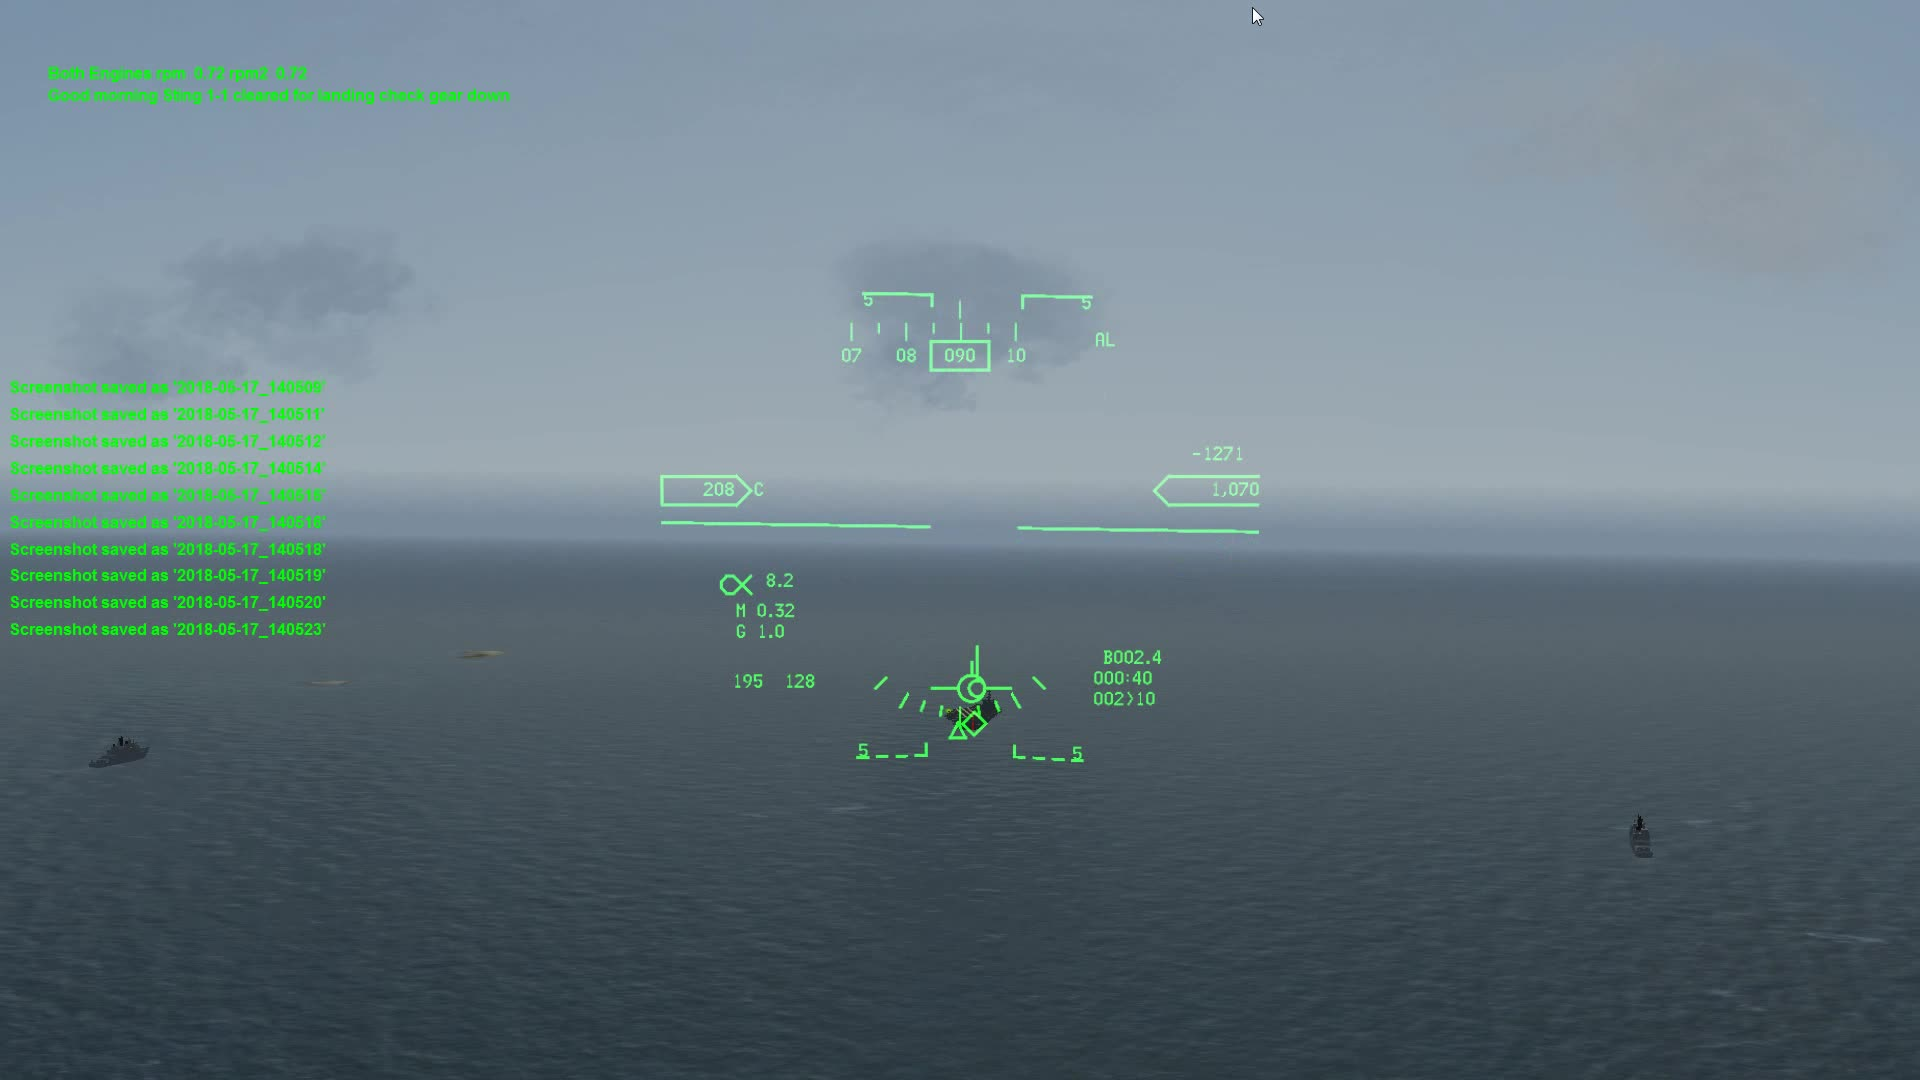speed vector: (910, 634, 1023, 705)
